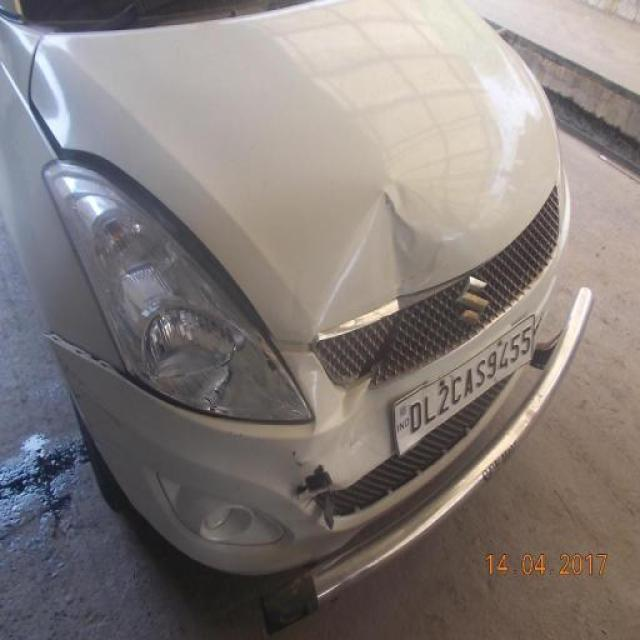dent: (315, 179, 443, 337), (297, 351, 372, 430)
misalignment: (36, 101, 287, 366), (40, 329, 190, 415)
scratch: (294, 465, 336, 508)
tear: (342, 315, 402, 393)
